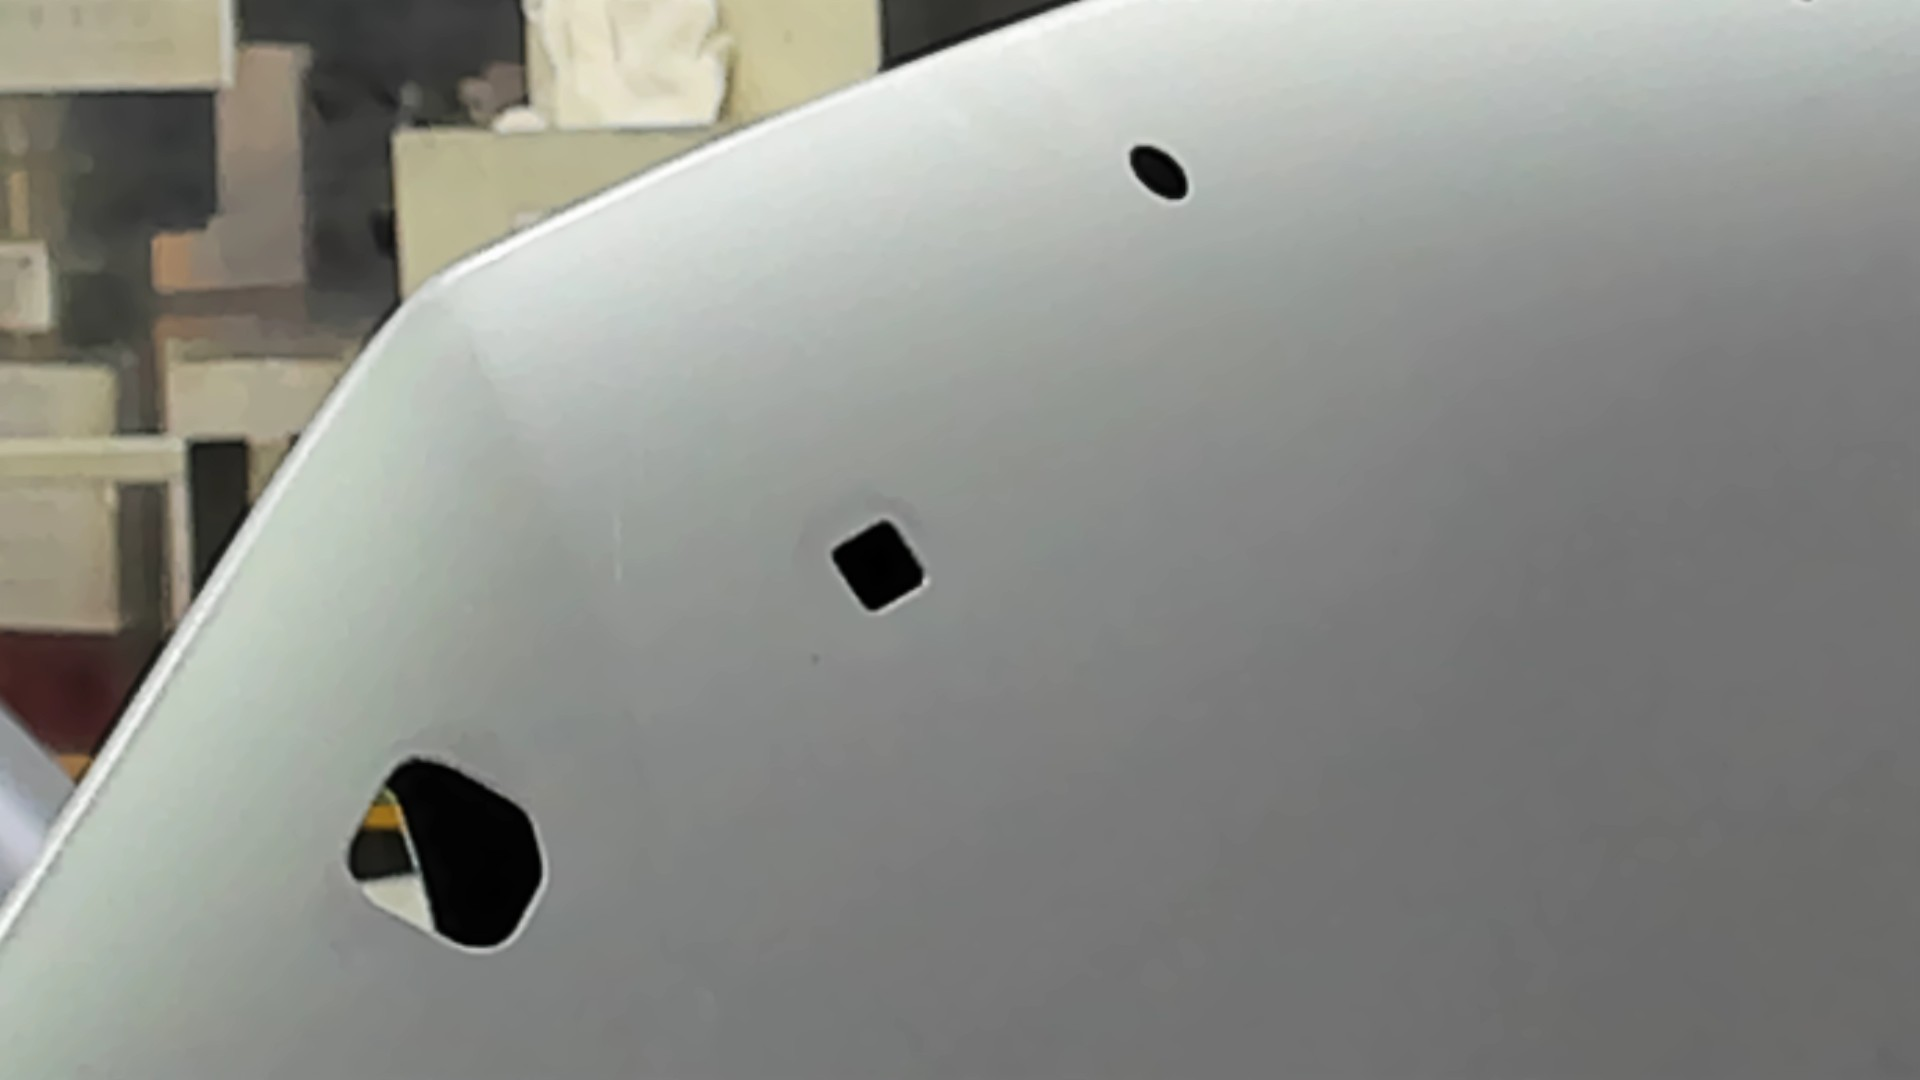capo: (943, 219, 1920, 1080)
chico: (1124, 140, 1193, 207)
grande: (339, 746, 553, 963)
mediano: (819, 508, 934, 618)
